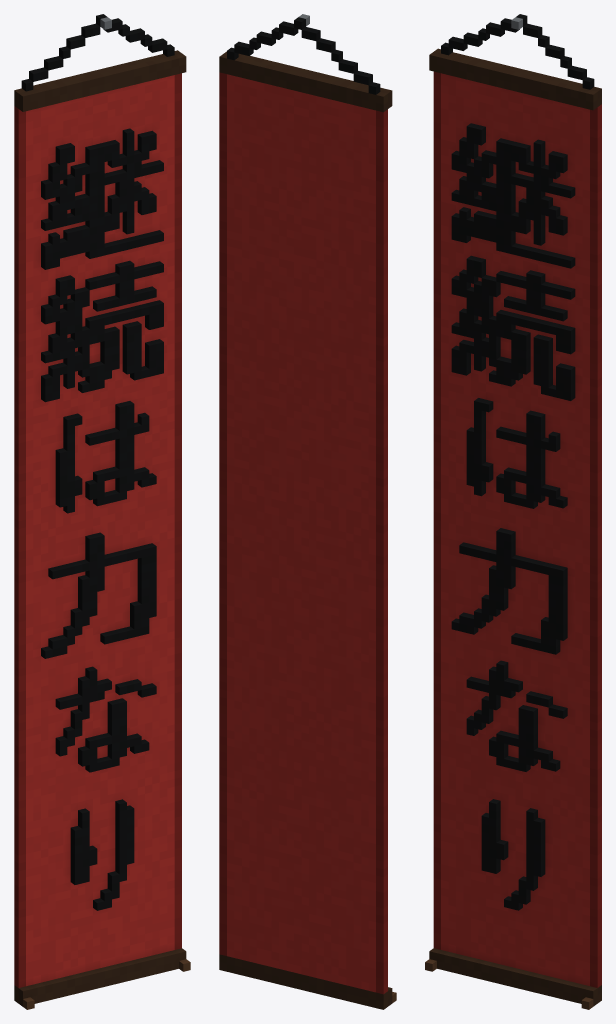
Rendered from kakemono.glb.
The picture shows the model from 3 angles, left to right: view 1: azimuth 30°, elevation 25°; view 2: azimuth 150°, elevation 25°; view 3: azimuth 330°, elevation 25°; orthographic projection.
Visible parts, largest first — view 1: kakemono; view 2: kakemono; view 3: kakemono.
Boxes of the visible parts, x1,y1,x2,y2 form: kakemono: [14, 14, 190, 1009]; kakemono: [219, 14, 396, 1009]; kakemono: [425, 14, 601, 1009].
Size of the model in its own units: 2.2 by 12.4 by 0.3.
